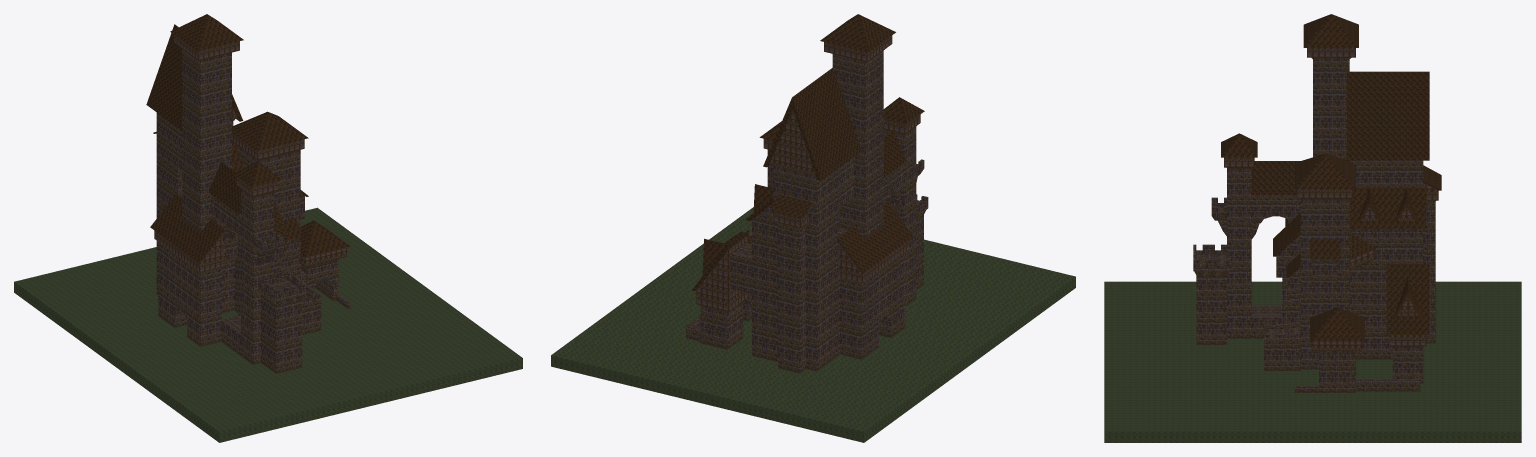
The model's file is castlebl.glb.
3 views of the same model, side by side, from view 1: azimuth 30°, elevation 25°; view 2: azimuth 150°, elevation 25°; view 3: azimuth 270°, elevation 25° (orthographic). The views are drawn at different scales.
Visible parts, largest first — view 1: entity0_brush0; view 2: entity0_brush0; view 3: entity0_brush0.
Part boxes in pixels (x1=…): entity0_brush0: x1=14, y1=14, x2=522, y2=442; entity0_brush0: x1=551, y1=14, x2=1075, y2=442; entity0_brush0: x1=1104, y1=14, x2=1521, y2=442.
Bounding box in the file's own units: 232 × 236 × 272.
Materials: 7 (7 with a texture image).
